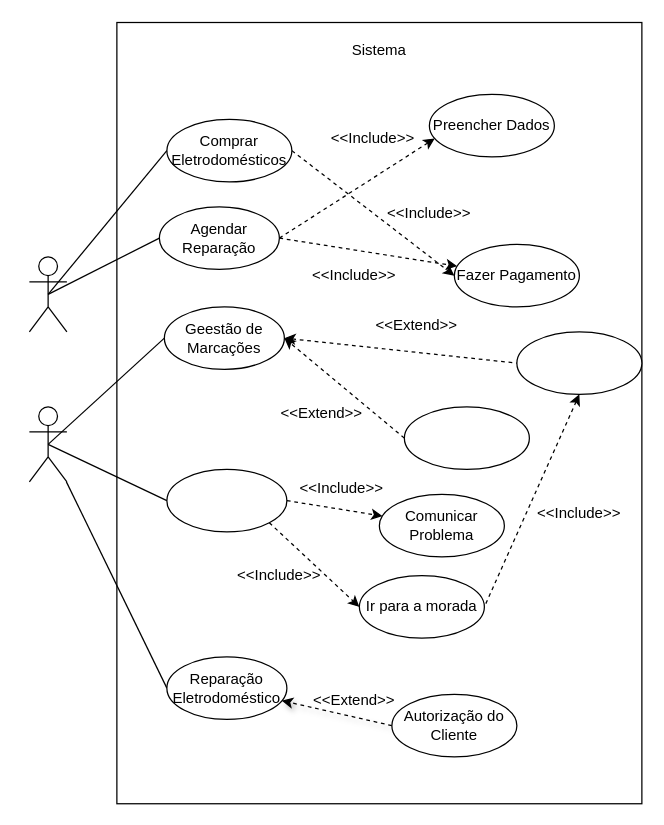
This 664x825 diagram has some shape labels left out. Each missing label, with the centre of its shape:
"Cliente" goes at (x=47, y=294).
"Definir Estado" goes at (x=466, y=437).
"Realizar Diagnóstico" goes at (x=226, y=500).
"Técnico" goes at (x=47, y=444).
"Visualizar Marcações" goes at (x=579, y=362).
